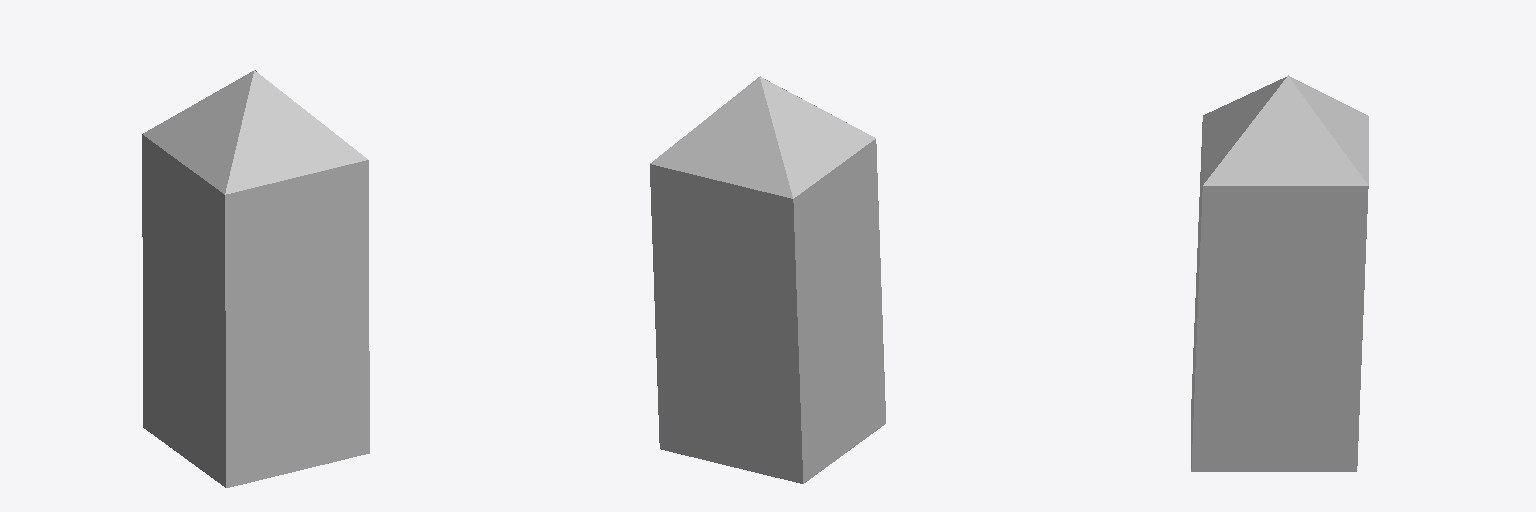
File: building3.obj
The picture shows the model from 3 angles: view 1: azimuth 30°, elevation 25°; view 2: azimuth 150°, elevation 25°; view 3: azimuth 270°, elevation 25°; orthographic projection.
Visible parts, largest first — view 1: Cube; view 2: Cube; view 3: Cube.
Boxes of the visible parts, x1,y1,x2,y2 form: Cube: [142, 70, 369, 487]; Cube: [650, 76, 885, 483]; Cube: [1191, 75, 1368, 471].
Size of the model in its own units: 2.06 by 4.84 by 2.14.